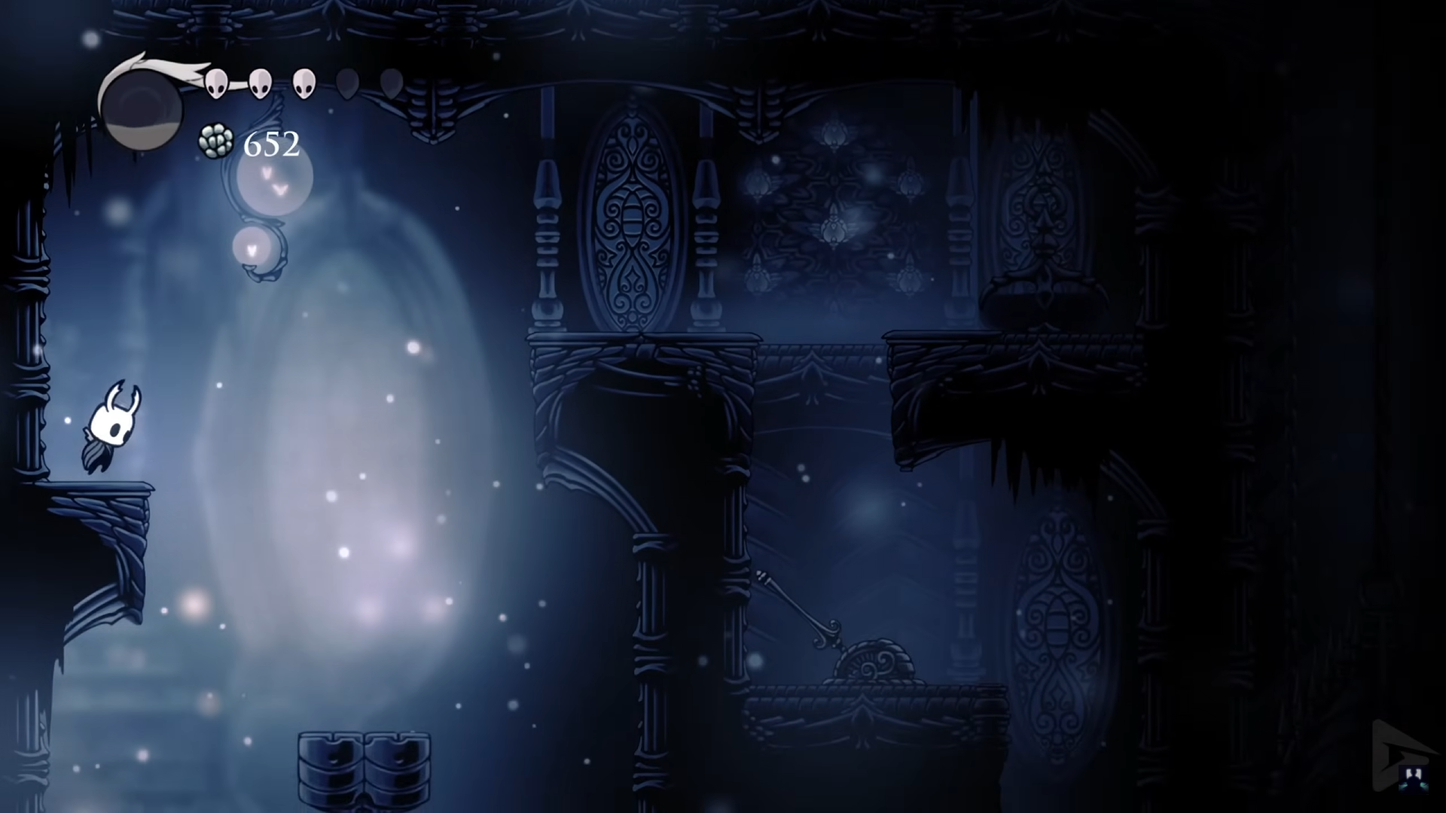HK: (78, 376, 143, 480)
